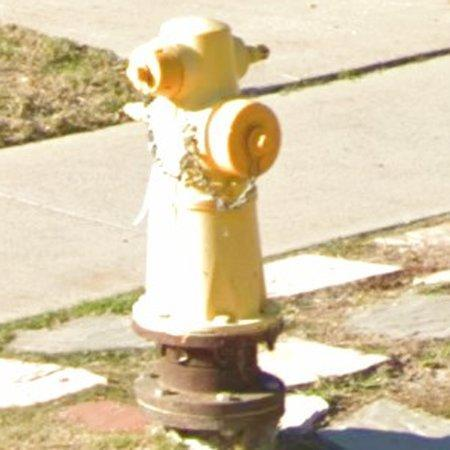a fire hydrant: (127, 16, 286, 395)
